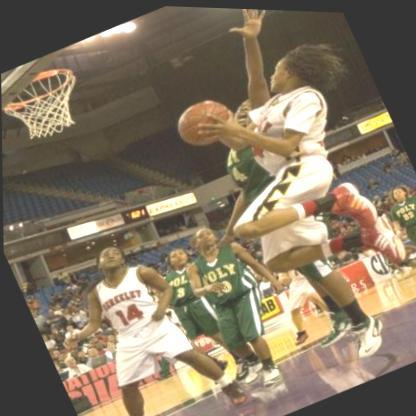basketball: (169, 88, 240, 153)
